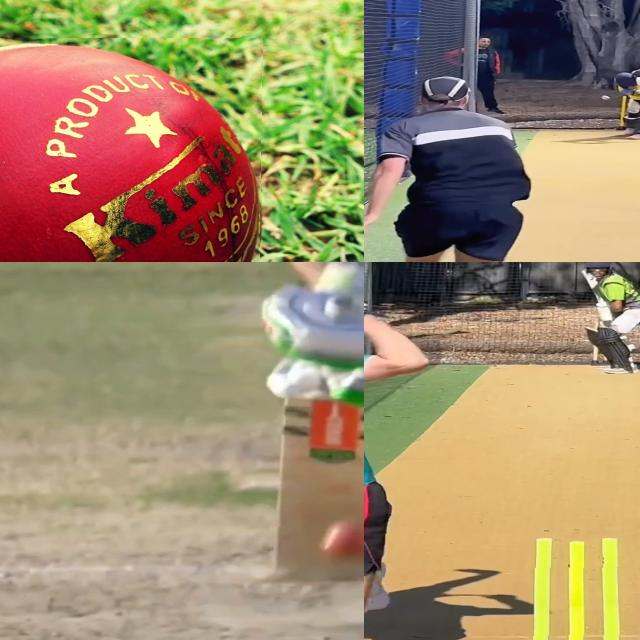Cricket ball: (0, 38, 263, 262), (318, 520, 364, 563), (602, 95, 610, 101)
Stumps: (514, 534, 640, 640)
